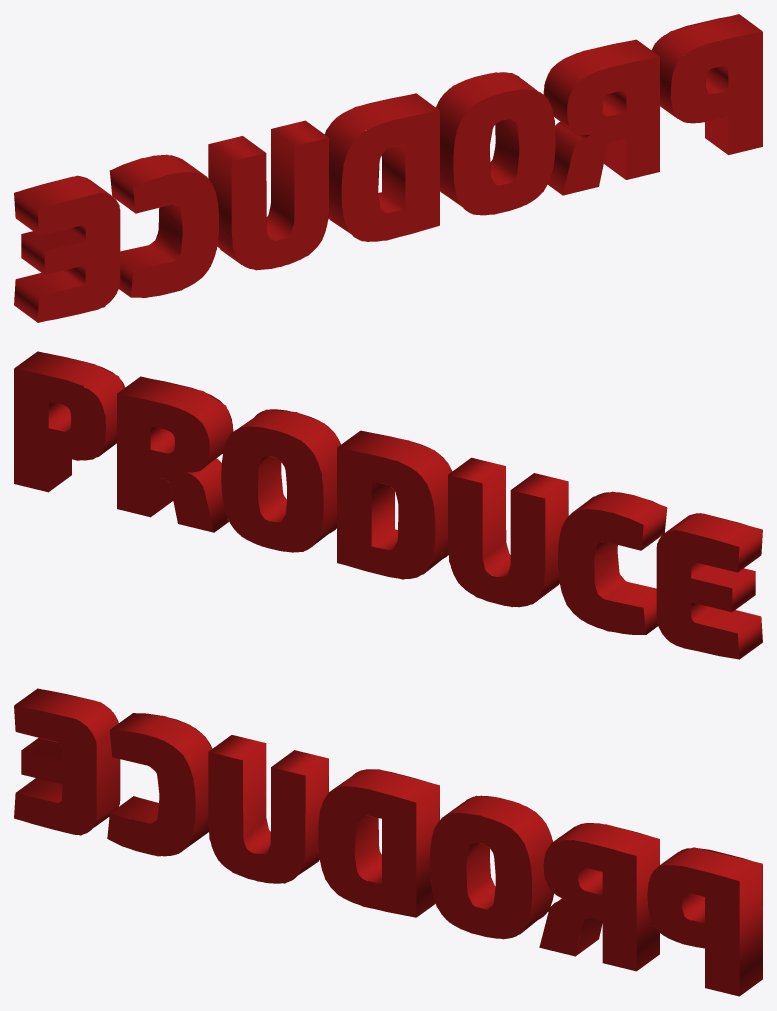
Rendered from produce.fbx.
3 renders of one model, top to bottom at view 1: azimuth 30°, elevation 25°; view 2: azimuth 150°, elevation 25°; view 3: azimuth 330°, elevation 25°, orthographic.
Parts seen in each view (by area): view 1: Text; view 2: Text; view 3: Text.
Part boxes in pixels (bbox=[...]): Text: bbox=[14, 14, 762, 322]; Text: bbox=[14, 351, 762, 659]; Text: bbox=[14, 688, 762, 996].
Size of the model in its own units: 14.27 by 2.27 by 0.8.
